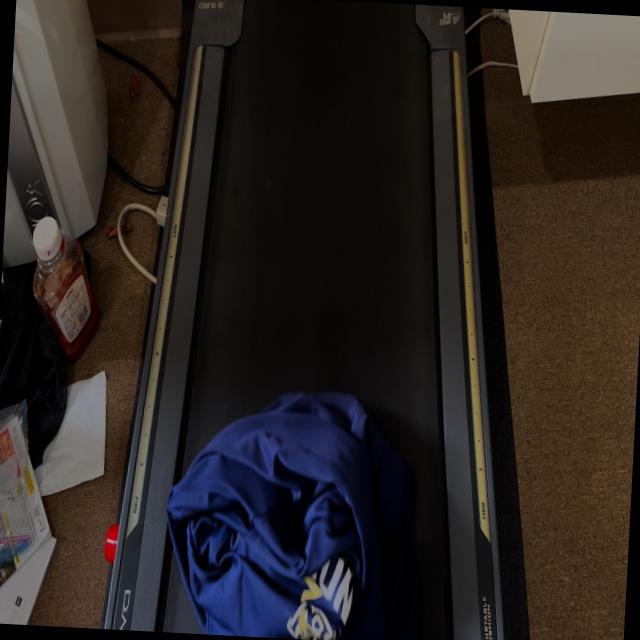Trash: (160, 402, 390, 640)
